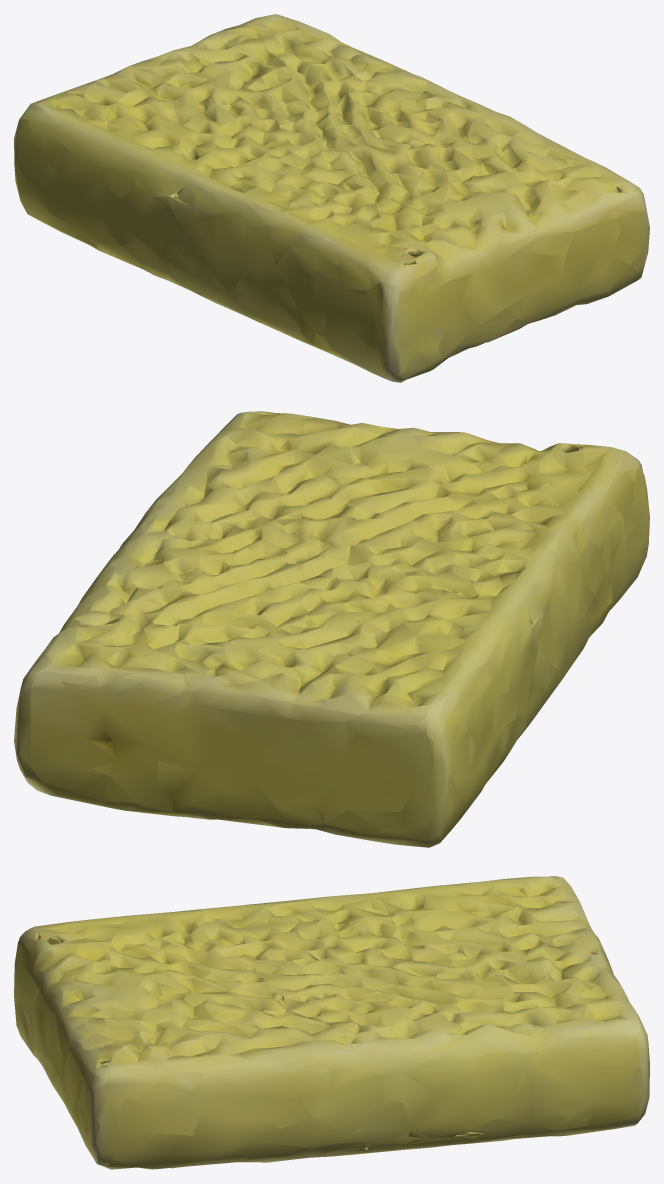
File: 0004_mask_005_yellow_sponge.glb
3 renders of one model, top to bottom at view 1: azimuth 30°, elevation 25°; view 2: azimuth 150°, elevation 25°; view 3: azimuth 270°, elevation 25°, orthographic. The views are drawn at different scales.
Visible parts, largest first — view 1: mask_005_object; view 2: mask_005_object; view 3: mask_005_object.
Boxes of the visible parts, left/top/right/bottom form: mask_005_object: left=14, top=14, right=649, bottom=382; mask_005_object: left=14, top=411, right=649, bottom=847; mask_005_object: left=14, top=876, right=649, bottom=1169.
Bounding box in the file's own units: 0.177 × 0.0496 × 0.2368.
